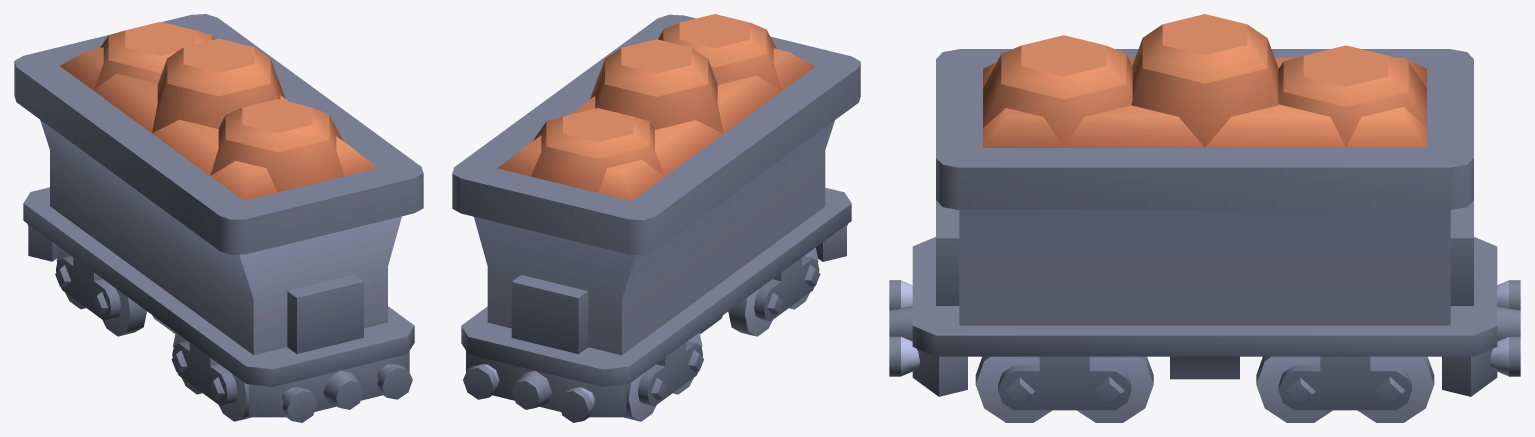
Rendered from kenney-train-train-carriage-dirt.glb.
3 views of the same model, side by side, from view 1: azimuth 30°, elevation 25°; view 2: azimuth 150°, elevation 25°; view 3: azimuth 270°, elevation 25° (orthographic). The views are drawn at different scales.
Parts seen in each view (by area): view 1: train-carriage-dirt, cargo, wheels-back, wheels-front; view 2: train-carriage-dirt, cargo, wheels-front, wheels-back; view 3: train-carriage-dirt, cargo, wheels-front, wheels-back.
Part boxes in pixels (x1=…): train-carriage-dirt: x1=14, y1=14, x2=423, y2=422; cargo: x1=60, y1=22, x2=377, y2=200; wheels-back: x1=55, y1=247, x2=146, y2=336; wheels-front: x1=171, y1=332, x2=250, y2=421; train-carriage-dirt: x1=452, y1=14, x2=860, y2=422; cargo: x1=497, y1=14, x2=815, y2=200; wheels-front: x1=728, y1=247, x2=820, y2=336; wheels-back: x1=624, y1=332, x2=703, y2=421; train-carriage-dirt: x1=889, y1=49, x2=1520, y2=396; cargo: x1=983, y1=14, x2=1426, y2=147; wheels-front: x1=975, y1=356, x2=1153, y2=422; wheels-back: x1=1256, y1=356, x2=1434, y2=422.
Size of the model in its own units: 1.2 by 1.65 by 2.7.
1 material, 1 textured.
